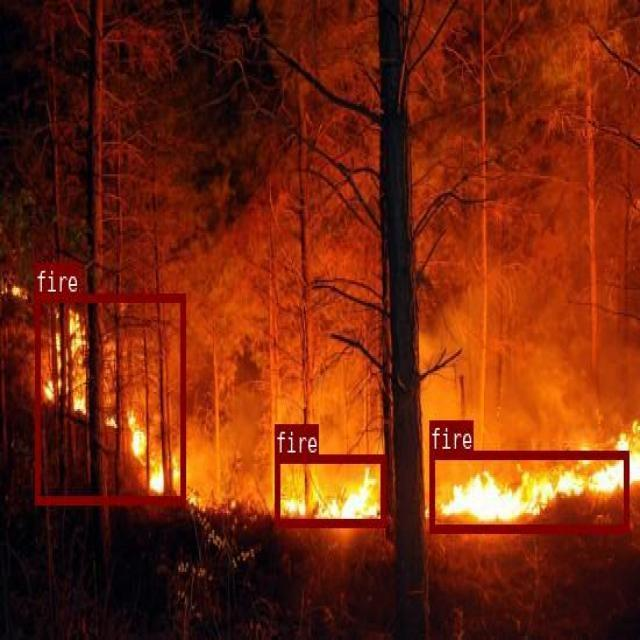fire: (34, 293, 184, 504), (429, 451, 628, 532), (274, 453, 384, 526)
